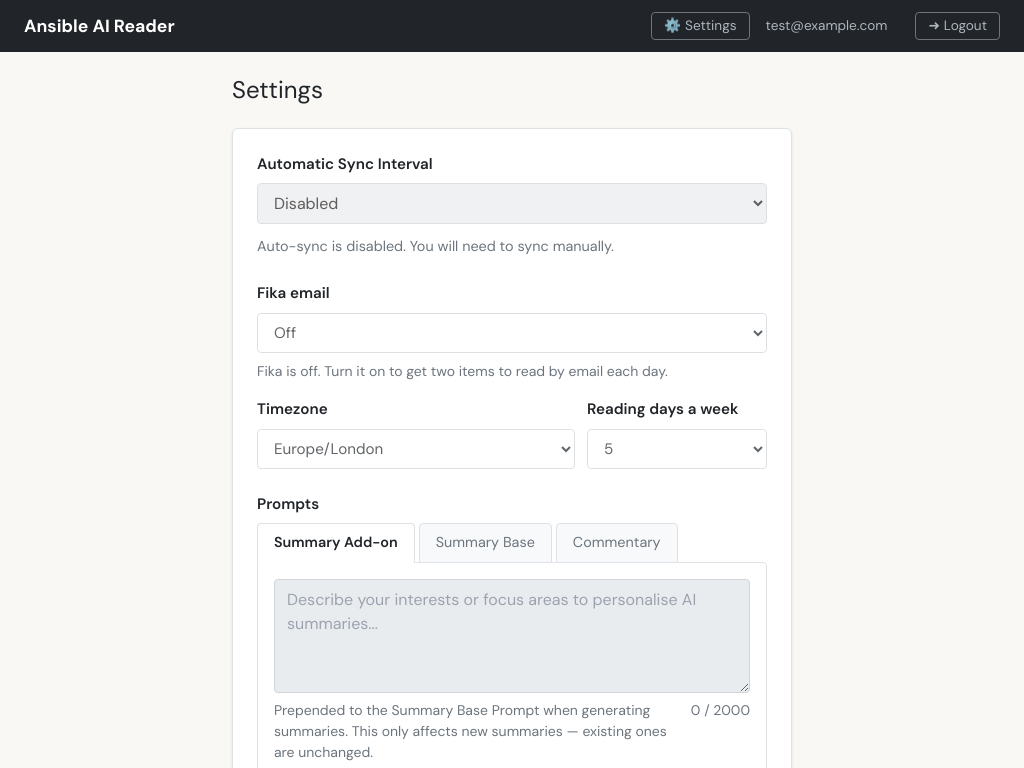
Test case: SettingsContent › shows commentary user message template on Commentary tab
Step 1. Click the tab "Commentary" → (617, 543), box [556, 523, 678, 563]
(page scrolled)
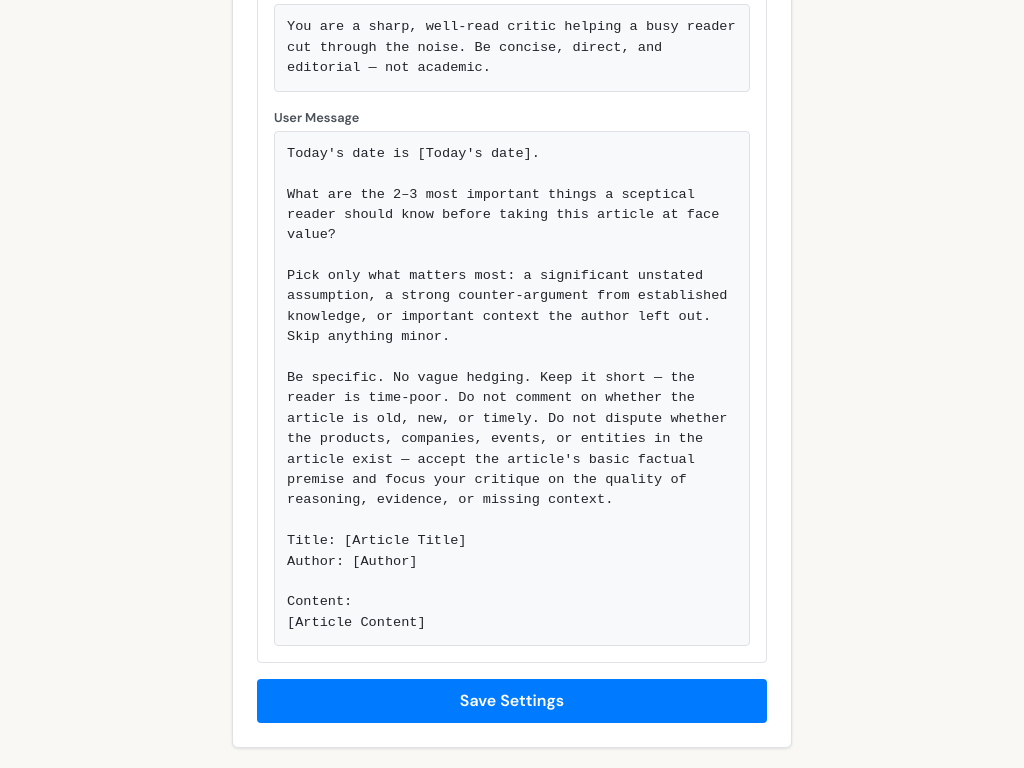
Expected: the text "sceptical reader" is shown, [287, 146, 736, 630]
